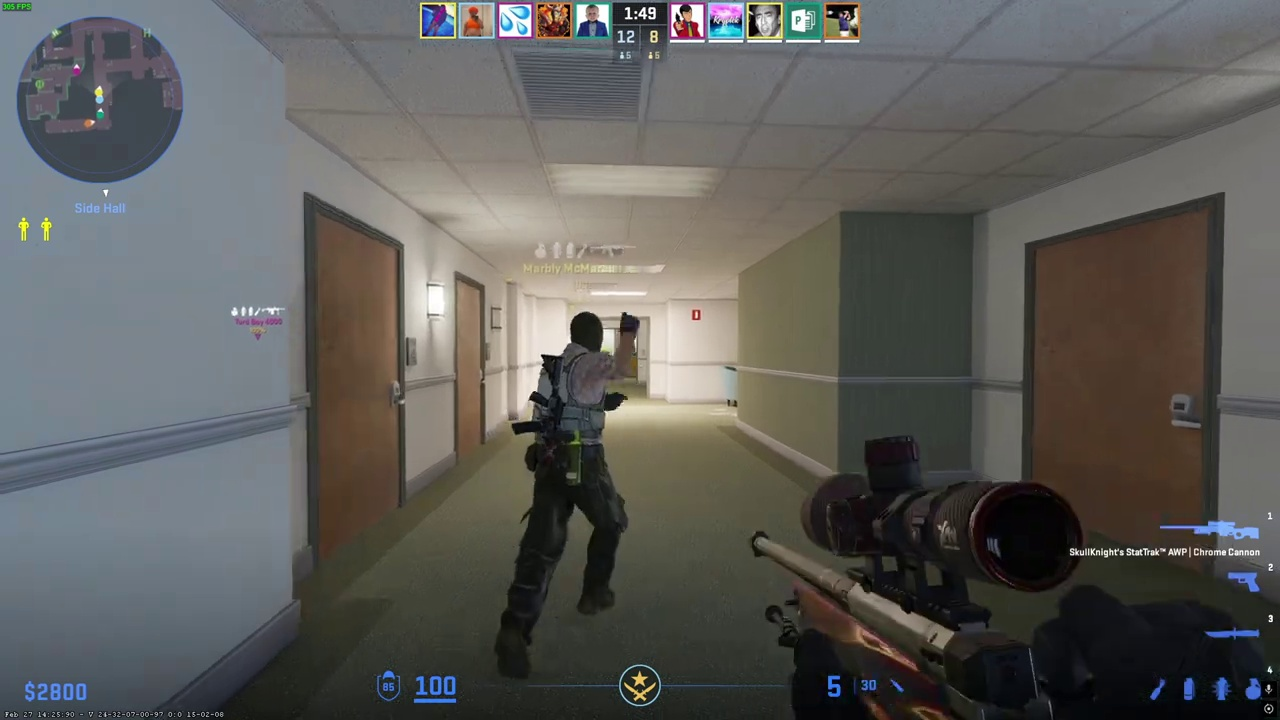Terrorist: (512, 311, 636, 680)
